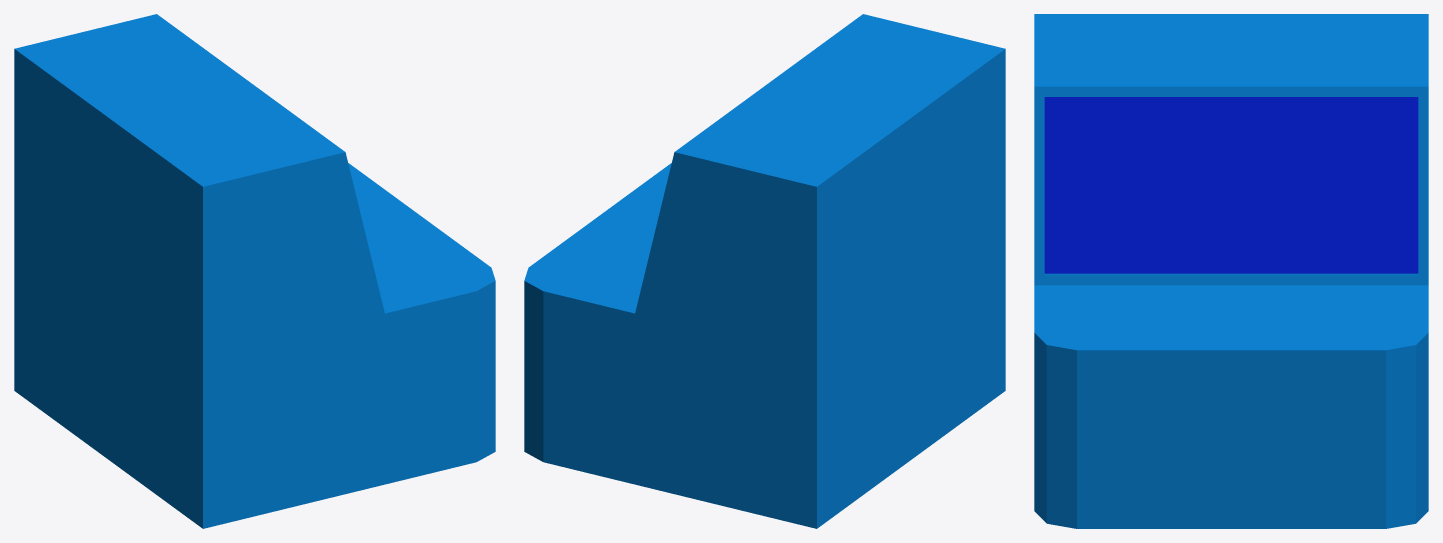
File: computer.fbx
3 renders of one model, left to right at view 1: azimuth 30°, elevation 25°; view 2: azimuth 150°, elevation 25°; view 3: azimuth 270°, elevation 25°, orthographic. The views are drawn at different scales.
Parts seen in each view (by area): view 1: computer; view 2: computer; view 3: computer.
Boxes of the visible parts, <box> form: computer: <box>14,14,495,528</box>; computer: <box>524,14,1005,528</box>; computer: <box>1034,14,1428,528</box>.
Bounding box in the file's own units: 189 × 200 × 200.
